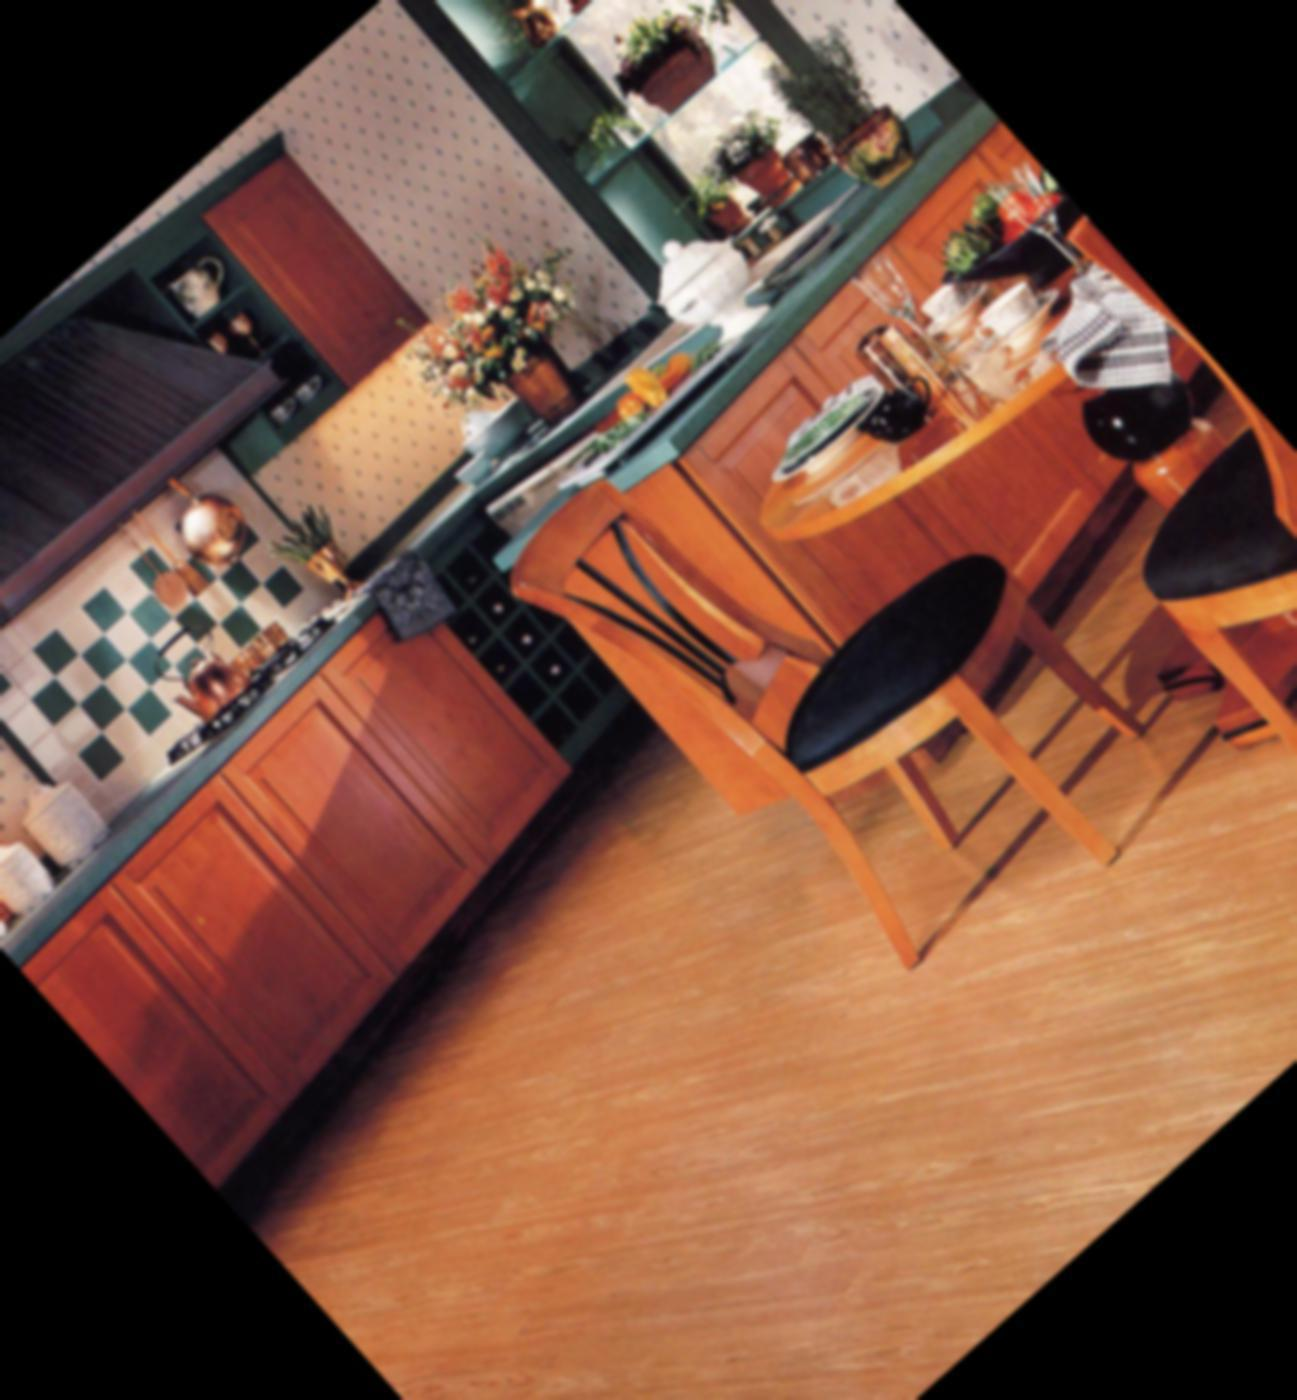Matera: (403, 235, 627, 457), (750, 16, 946, 216), (590, 0, 733, 138), (694, 98, 818, 226), (644, 140, 757, 256), (519, 0, 618, 22)
